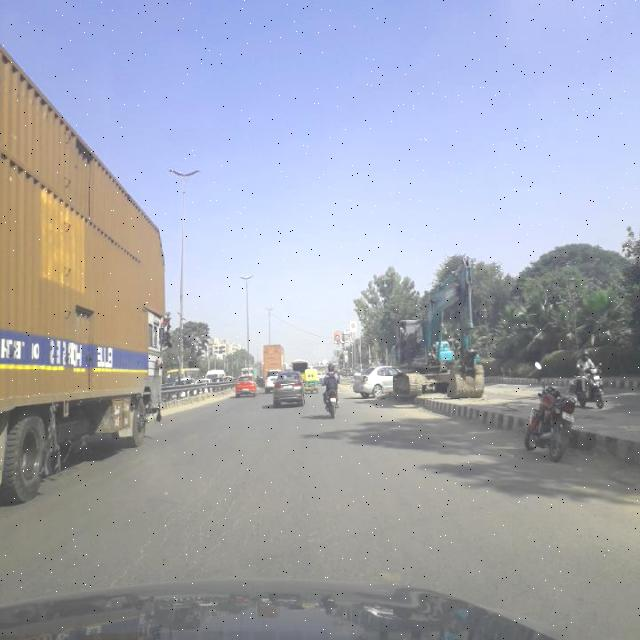D20: (116, 436, 289, 578)
